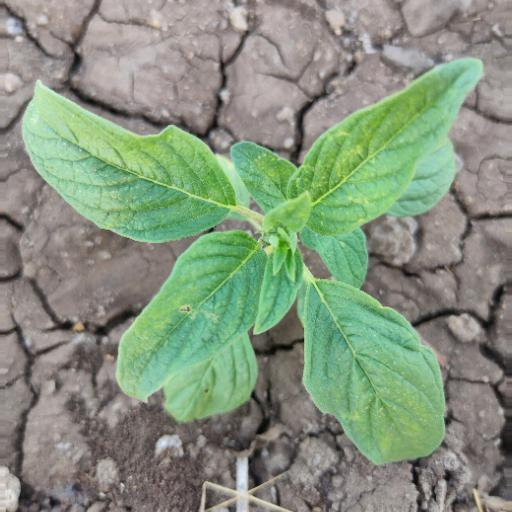crop: (22, 55, 489, 461)
